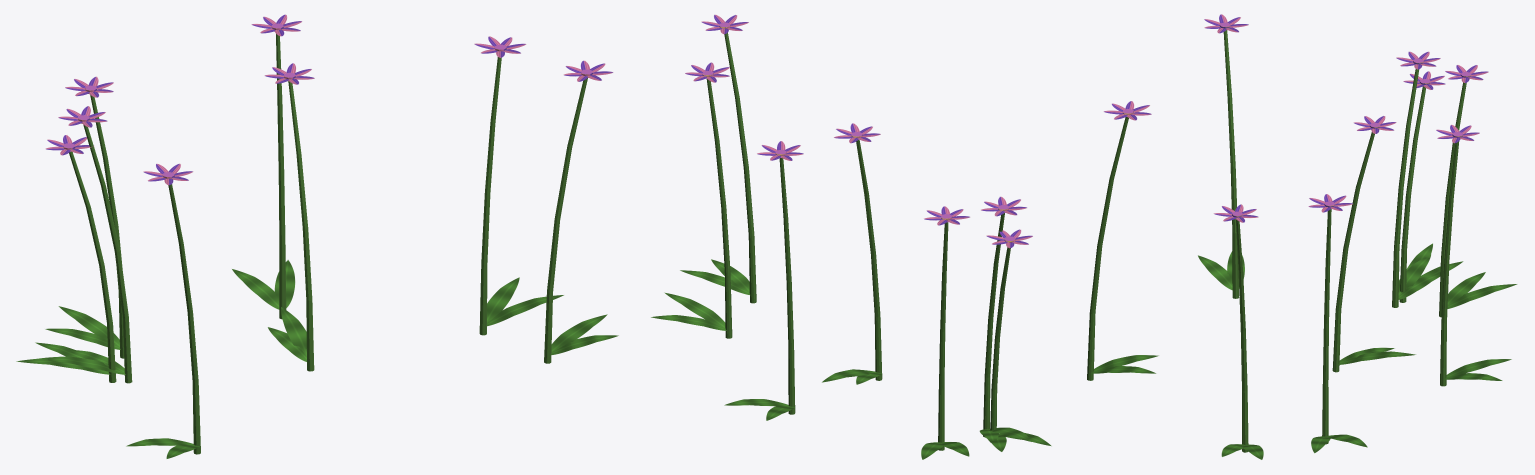
File: meadow_flower_mix_v02.glb
3 renders of one model, left to right at view 1: azimuth 30°, elevation 25°; view 2: azimuth 150°, elevation 25°; view 3: azimuth 270°, elevation 25°, orthographic. The views are drawn at different scales.
Parts seen in each view (by area): view 1: meadow_flower_mix_v02; view 2: meadow_flower_mix_v02; view 3: meadow_flower_mix_v02.
Part boxes in pixels (x1,y1,x2,y2): meadow_flower_mix_v02: (16, 14, 618, 458); meadow_flower_mix_v02: (651, 14, 1158, 459); meadow_flower_mix_v02: (1198, 14, 1517, 459).
Size of the model in its own units: 0.701 by 0.3908 by 0.4526.
3 materials, 3 textured.
